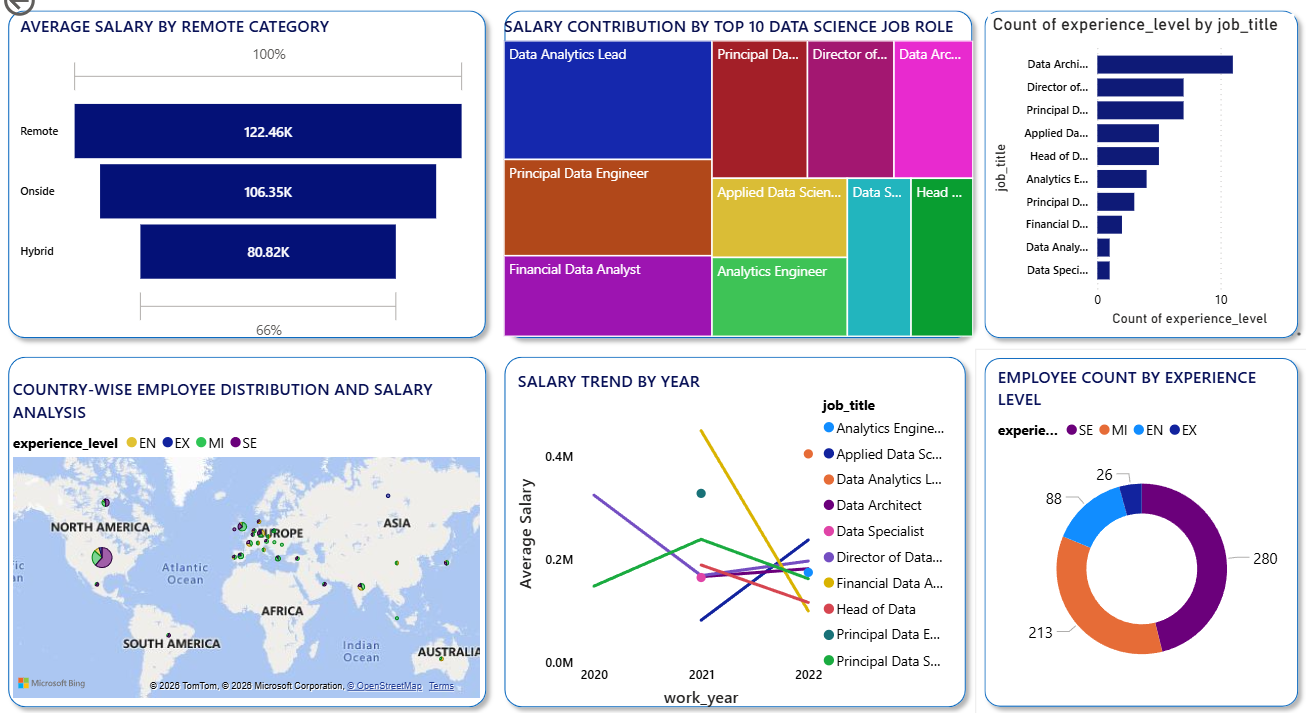

The page's visual inventory and layout, read from the dashboard file:
{"tool":"powerbi","page":{"name":"Page 2","canvas":[1280,720],"ordinal":1},"visuals":[{"type":"shape","box":[0,20.6,485.2,338.6],"z":0},{"type":"shape","box":[0,359.5,485.8,360.9],"z":1000},{"type":"map","title":"COUNTRY-WISE EMPLOYEE DISTRIBUTION AND SALARY ANALYSIS","fields":{"Size":["ds_salaries (1).Employee Count"],"Category":["ds_salaries (1).Country Name"],"Series":["ds_salaries (1).experience_level"]},"box":[8.2,388.3,466.6,318.4],"z":2000},{"type":"funnel","title":"AVERAGE SALARY BY REMOTE CATEGORY","fields":{"Category":["ds_salaries (1).Remote Category"],"Y":["ds_salaries (1).Average Salary"]},"box":[16.4,32.9,446.9,326.2],"z":3000},{"type":"shape","box":[485.8,359.5,469.3,360.9],"z":4000},{"type":"shape","box":[485.2,20.6,475.6,338.6],"z":5000},{"type":"treemap","title":"SALARY CONTRIBUTION BY TOP 10 DATA SCIENCE JOB ROLE","fields":{"Values":["ds_salaries (1).Average Salary"],"Group":["ds_salaries (1).job_title"]},"box":[489.4,32.9,468.8,320.8],"z":6000},{"type":"actionButton","box":[0,0,100,40],"z":7000},{"type":"lineChart","title":"SALARY TREND BY YEAR","fields":{"Series":["ds_salaries (1).job_title"],"Y":["ds_salaries (1).Average Salary"],"Category":["ds_salaries (1).work_year"]},"box":[502.2,380.1,436.4,336.2],"z":8000},{"type":"shape","box":[955.4,360.5,324.9,359.1],"z":9000},{"type":"donutChart","title":"EMPLOYEE COUNT BY EXPERIENCE LEVEL","fields":{"Category":["ds_salaries (1).experience_level"],"Y":["ds_salaries (1).Employee Count"]},"box":[971.9,377,292,326.2],"z":10000},{"type":"shape","box":[955.4,20.6,324.9,338.6],"z":11000},{"type":"clusteredBarChart","fields":{"Y":["CountNonNull(ds_salaries (1).experience_level)"],"Category":["ds_salaries (1).job_title"]},"box":[967.7,32.9,300.2,309.8],"z":12000}]}

Visuals, with their boxes in screenshot pixels (x1, y1, x2, y2):
shape: <region>7, 0, 499, 337</region>
shape: <region>7, 337, 500, 703</region>
"COUNTRY-WISE EMPLOYEE DISTRIBUTION AND SALARY ANALYSIS" map: <region>15, 367, 488, 690</region>
"AVERAGE SALARY BY REMOTE CATEGORY" funnel: <region>23, 6, 477, 337</region>
shape: <region>500, 337, 975, 703</region>
shape: <region>499, 0, 981, 337</region>
"SALARY CONTRIBUTION BY TOP 10 DATA SCIENCE JOB ROLE" treemap: <region>503, 6, 979, 332</region>
actionButton: <region>7, 0, 108, 13</region>
"SALARY TREND BY YEAR" lineChart: <region>516, 358, 959, 699</region>
shape: <region>976, 338, 1305, 703</region>
"EMPLOYEE COUNT BY EXPERIENCE LEVEL" donutChart: <region>993, 355, 1289, 686</region>
shape: <region>976, 0, 1305, 337</region>
clusteredBarChart - CountNonNull(ds_salaries (1).experience_level) x ds_salaries (1).job_title: <region>988, 6, 1293, 320</region>
